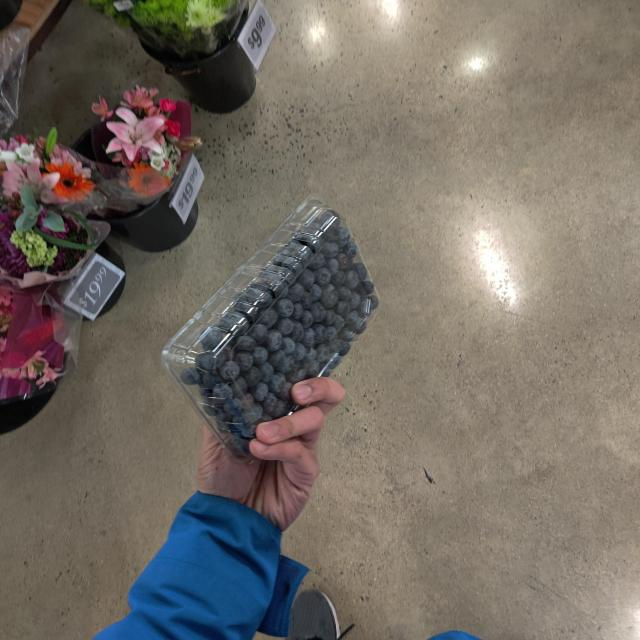Blueberries: (165, 207, 409, 435)
